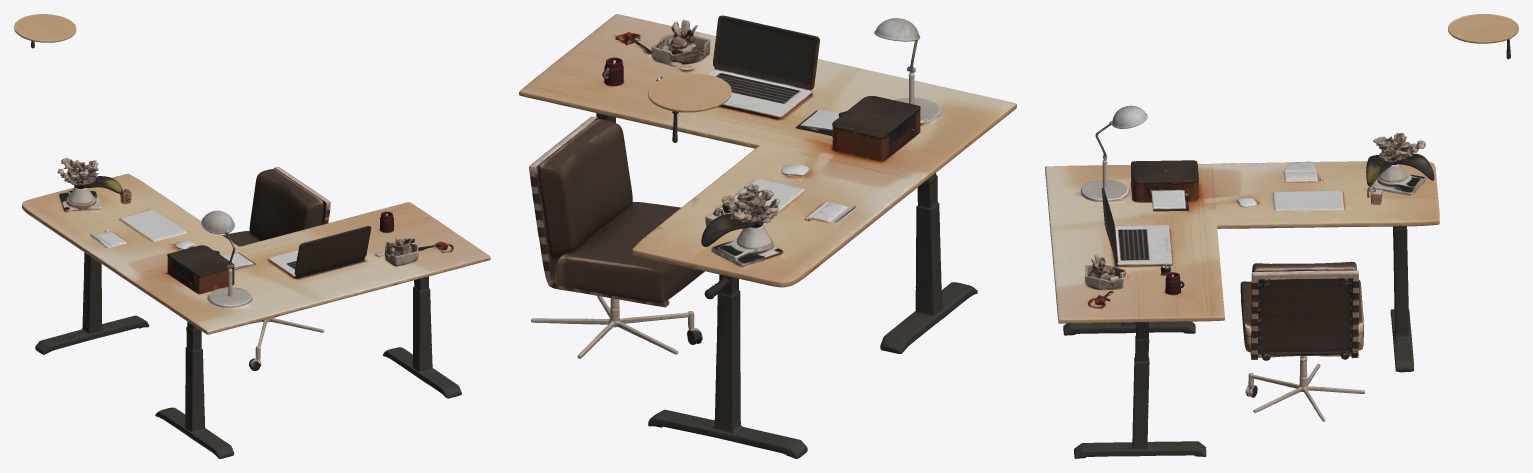
File: staples-com-flexispot-e7-76-w-l-shaped-adjustable-standing-d-ef310e.glb
3 renders of one model, left to right at view 1: azimuth 30°, elevation 25°; view 2: azimuth 150°, elevation 25°; view 3: azimuth 270°, elevation 25°, orthographic. The views are drawn at different scales.
Visible parts, largest first — view 1: tripo_node_18437a56-2622-4bc9-a1bd-ad9d7cb5b111; view 2: tripo_node_18437a56-2622-4bc9-a1bd-ad9d7cb5b111; view 3: tripo_node_18437a56-2622-4bc9-a1bd-ad9d7cb5b111.
Part boxes in pixels (x1,y1,x2,y2): tripo_node_18437a56-2622-4bc9-a1bd-ad9d7cb5b111: [14, 14, 490, 458]; tripo_node_18437a56-2622-4bc9-a1bd-ad9d7cb5b111: [519, 14, 1016, 458]; tripo_node_18437a56-2622-4bc9-a1bd-ad9d7cb5b111: [1045, 14, 1518, 458].
Bounding box in the file's own units: 0.7982 × 0.7351 × 1.
Materials: 1 (1 with a texture image).
